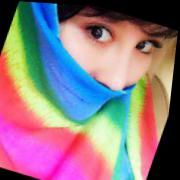WRONG: (32, 3, 172, 136)
